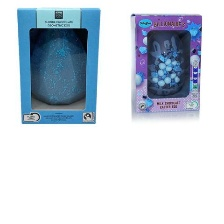book: (10, 3, 105, 129), (124, 5, 207, 120)
